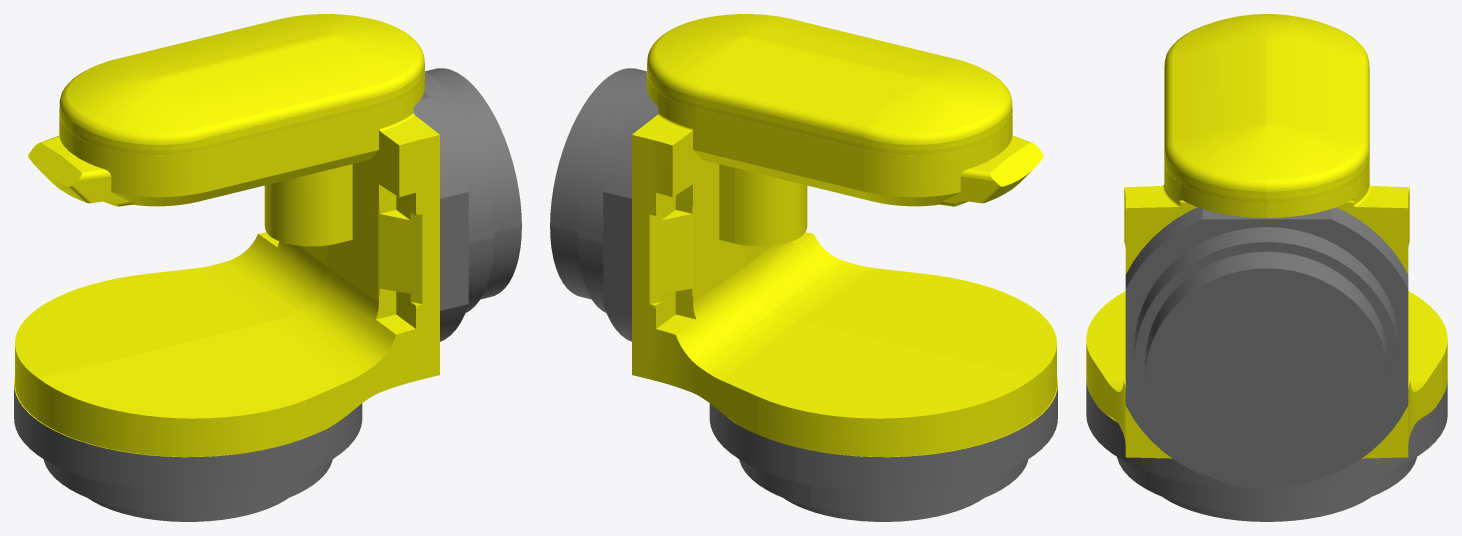
3 views of the same model, side by side, from view 1: azimuth 30°, elevation 25°; view 2: azimuth 150°, elevation 25°; view 3: azimuth 270°, elevation 25° (orthographic). The views are drawn at different scales.
Visible parts, largest first — view 1: Mesh_0; view 2: Mesh_0; view 3: Mesh_0.
Boxes of the visible parts, x1,y1,x2,y2 form: Mesh_0: [14, 14, 521, 521]; Mesh_0: [550, 14, 1057, 521]; Mesh_0: [1086, 14, 1447, 521].
Size of the model in its own units: 0.2385 by 0.215 by 0.169.
